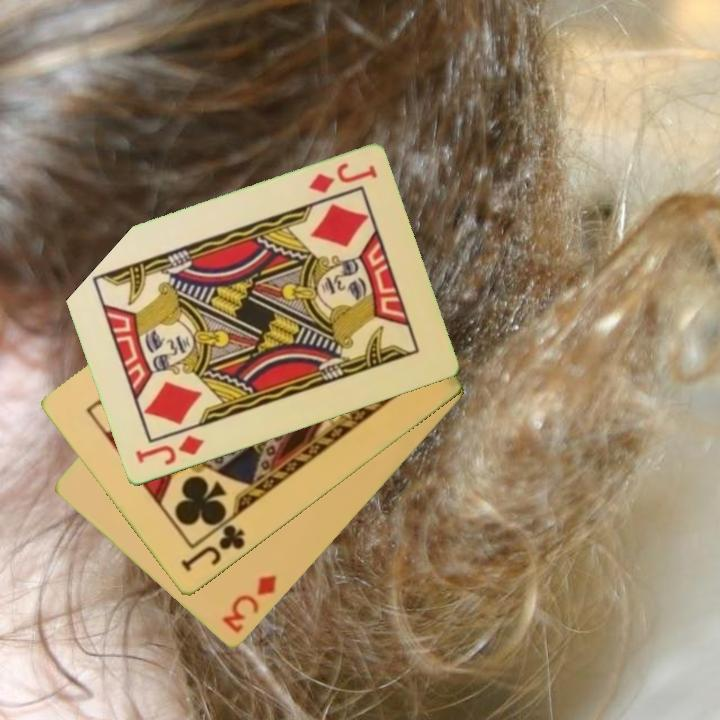3d: (219, 571, 280, 637)
Jc: (177, 521, 248, 575)
Jd: (131, 432, 207, 469), (305, 160, 380, 197)
